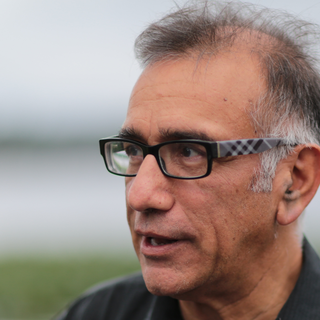eye: (171, 140, 206, 164), (120, 141, 147, 162)
